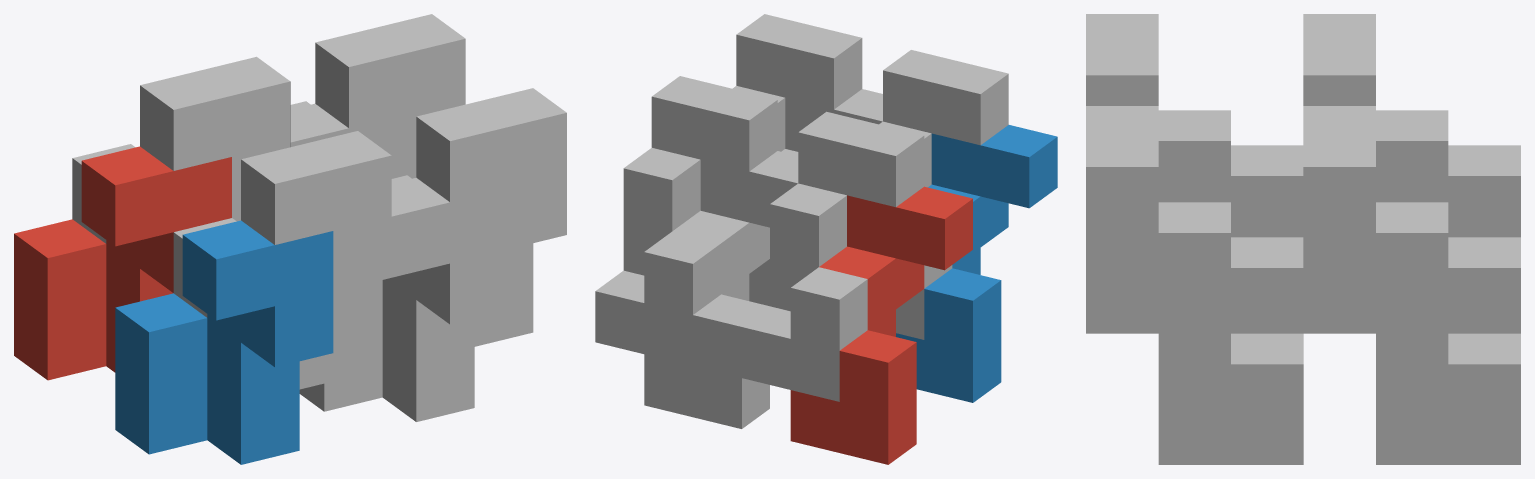
File: tiling.obj
The picture shows the model from 3 angles, left to right: view 1: azimuth 30°, elevation 25°; view 2: azimuth 150°, elevation 25°; view 3: azimuth 270°, elevation 25°; orthographic projection. The views are drawn at different scales.
Visible parts, largest first — view 1: copy_1_domain_2, copy_1_domain_1, copy_1_domain_6, copy_1_domain_4, copy_1_domain_8, copy_1_domain_3, copy_1_domain_7, copy_1_domain_5; view 2: copy_1_domain_7, copy_1_domain_3, copy_1_domain_1, copy_1_domain_2, copy_1_domain_5, copy_1_domain_4, copy_1_domain_8, copy_1_domain_6; view 3: copy_1_domain_8, copy_1_domain_7, copy_1_domain_4, copy_1_domain_3, copy_1_domain_6, copy_1_domain_5.
Boxes of the visible parts, <box> form: copy_1_domain_2: <box>115,220,333,464</box>; copy_1_domain_1: <box>14,146,231,380</box>; copy_1_domain_6: <box>299,177,508,421</box>; copy_1_domain_4: <box>173,131,391,389</box>; copy_1_domain_8: <box>391,88,566,346</box>; copy_1_domain_3: <box>72,56,290,243</box>; copy_1_domain_7: <box>290,14,465,178</box>; copy_1_domain_5: <box>290,103,407,178</box>; copy_1_domain_7: <box>595,76,777,365</box>; copy_1_domain_3: <box>742,111,924,401</box>; copy_1_domain_1: <box>790,186,972,464</box>; copy_1_domain_2: <box>896,125,1057,402</box>; copy_1_domain_5: <box>644,151,798,428</box>; copy_1_domain_4: <box>879,50,1008,339</box>; copy_1_domain_8: <box>732,14,862,302</box>; copy_1_domain_6: <box>749,89,882,306</box>; copy_1_domain_8: <box>1086,106,1303,429</box>; copy_1_domain_7: <box>1303,106,1520,429</box>; copy_1_domain_4: <box>1086,14,1303,237</box>; copy_1_domain_3: <box>1303,14,1520,237</box>; copy_1_domain_6: <box>1086,298,1303,464</box>; copy_1_domain_5: <box>1303,298,1520,464</box>.
Bounding box in the file's own units: 6 × 5 × 6.
